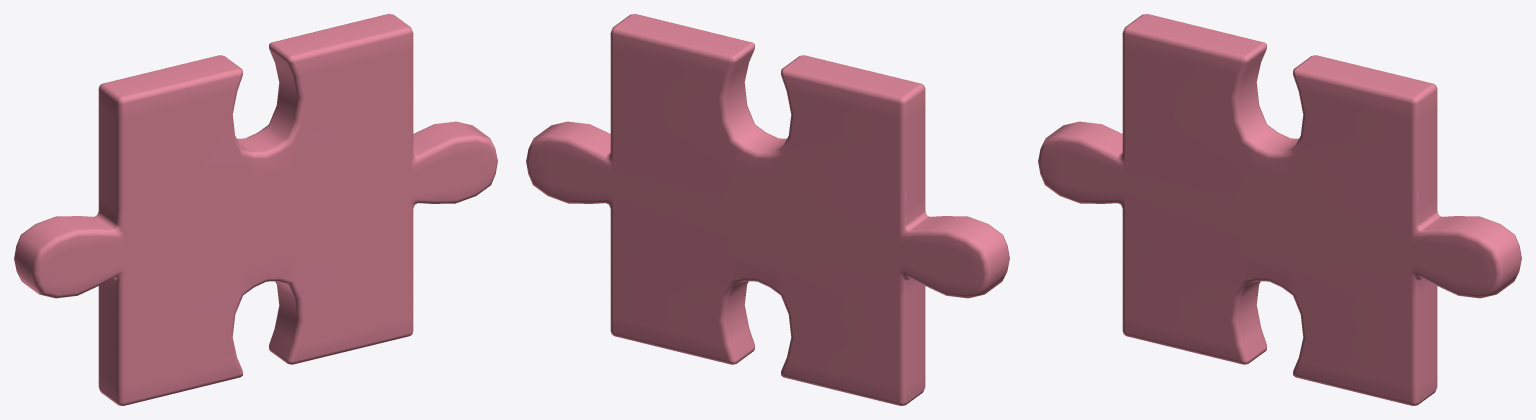
File: Puzzle_2.glb
3 renders of one model, left to right at view 1: azimuth 30°, elevation 25°; view 2: azimuth 150°, elevation 25°; view 3: azimuth 330°, elevation 25°, orthographic.
Parts seen in each view (by area): view 1: Puzzle_2; view 2: Puzzle_2; view 3: Puzzle_2.
Boxes of the visible parts, x1=… form: Puzzle_2: x1=14, y1=14, x2=497, y2=405; Puzzle_2: x1=526, y1=14, x2=1009, y2=405; Puzzle_2: x1=1038, y1=14, x2=1521, y2=405.
Bounding box in the file's own units: 0.9005 × 0.5723 × 0.0779.
Materials: 1 (1 with a texture image).
